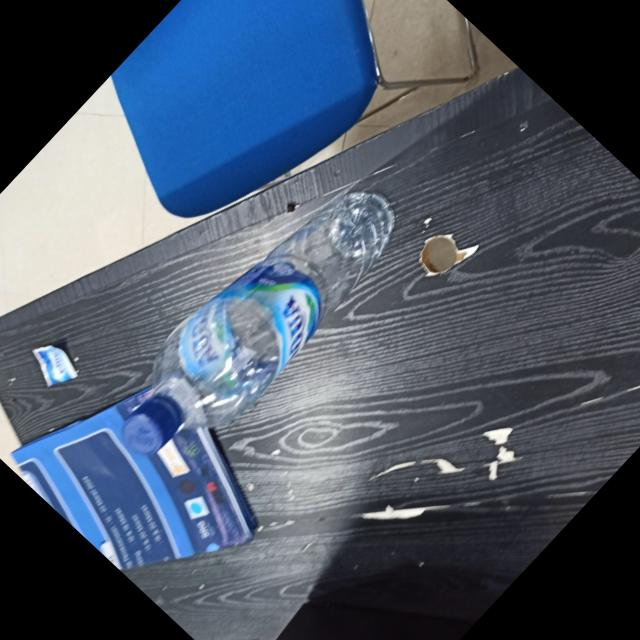BotolPlastik: (93, 153, 418, 491)
